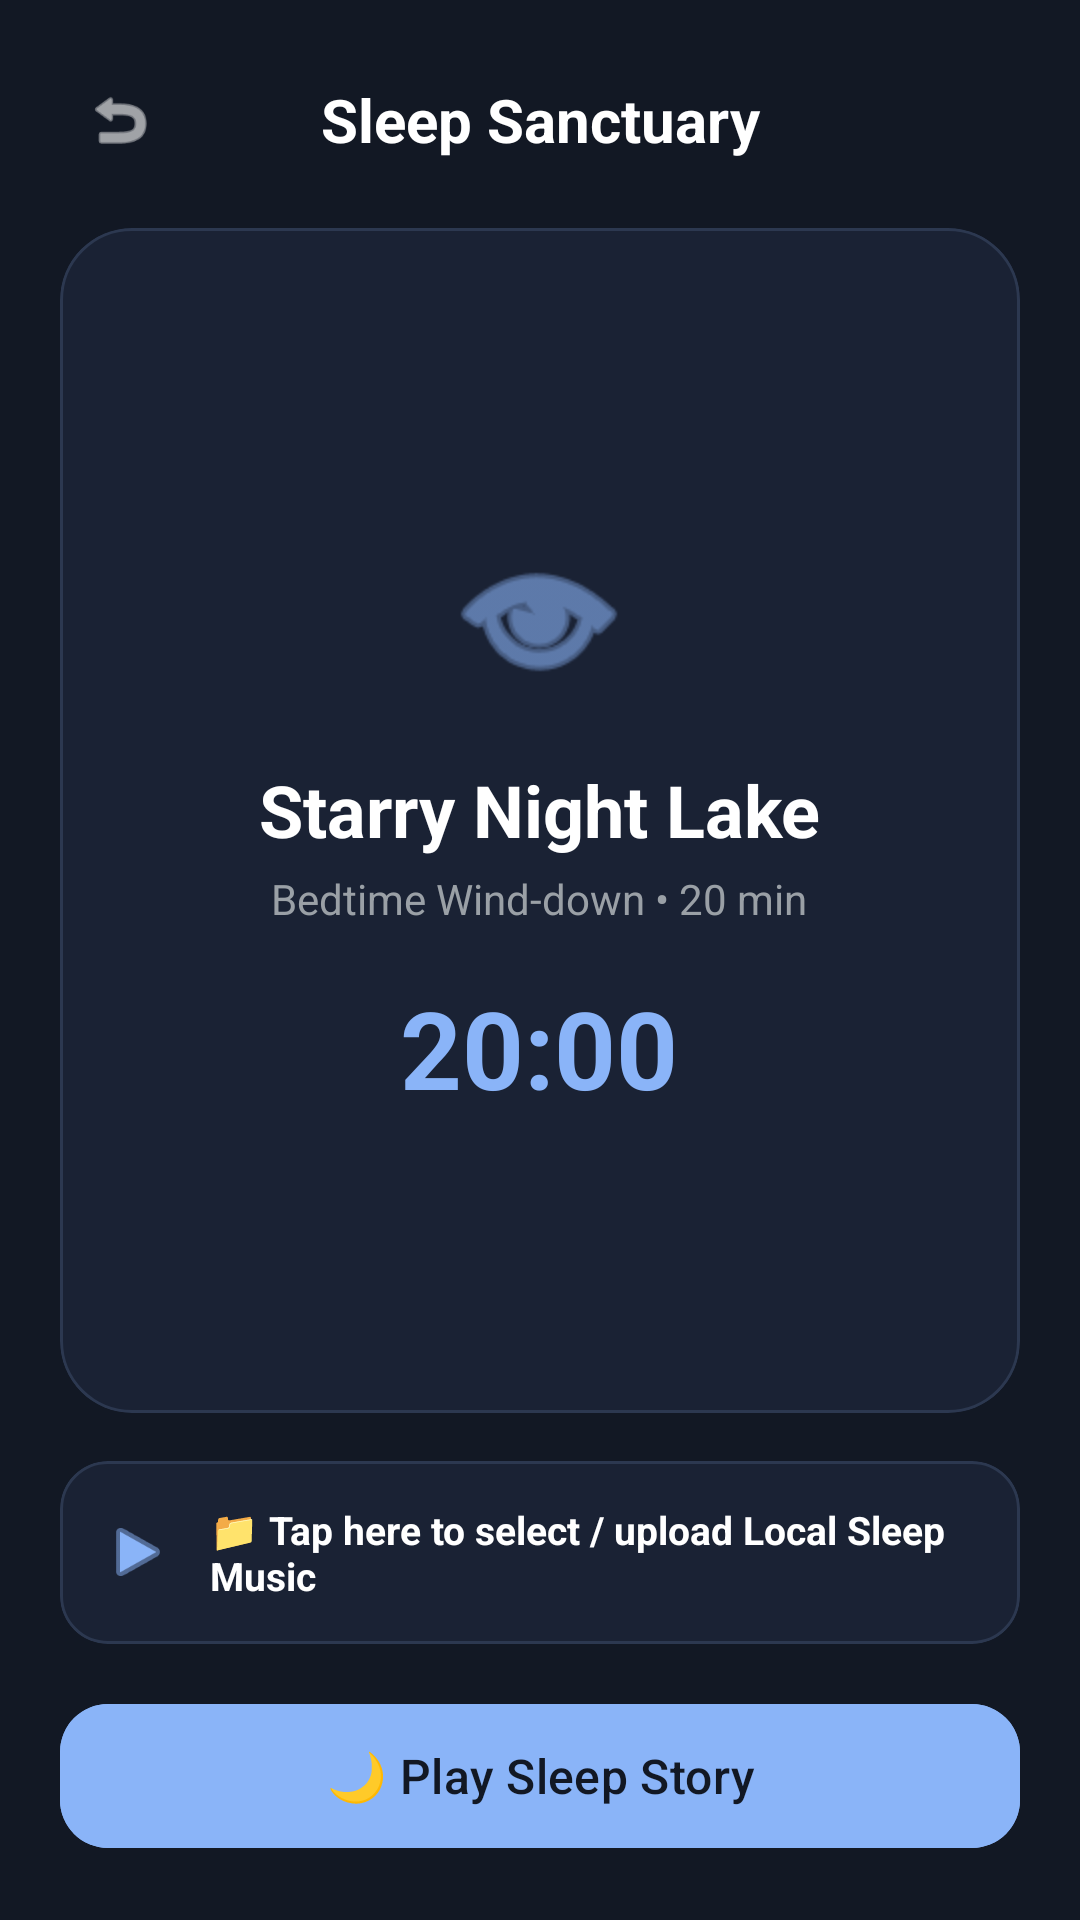

Icons on this 1080 × 1920 Android screen, each with its box as (x1=x1, y1=y1, x2=x2, y2=y2):
Back: (x1=95, y1=97, x2=147, y2=144)
